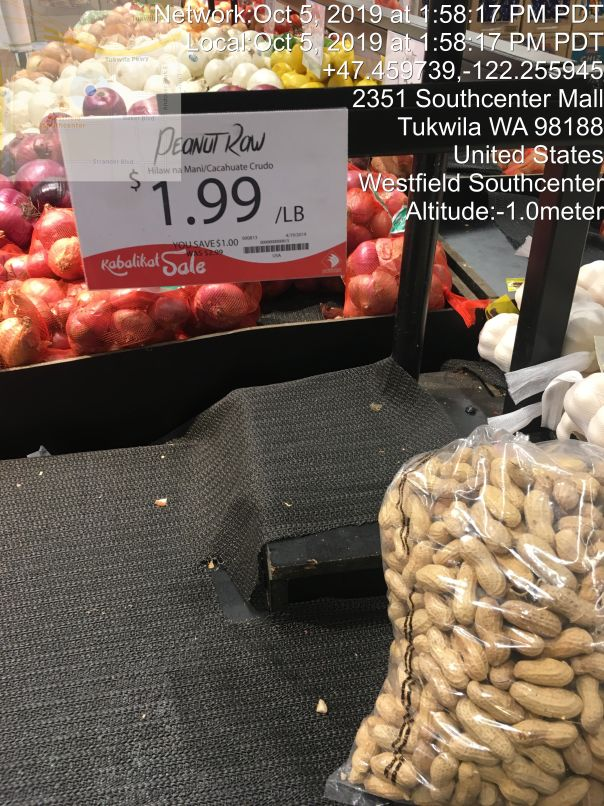Label: (51, 102, 380, 301)
Location: (346, 80, 604, 200)
Peanut Raw: (347, 386, 604, 804)
Time: (148, 1, 604, 55)
Void: (46, 405, 323, 804)
